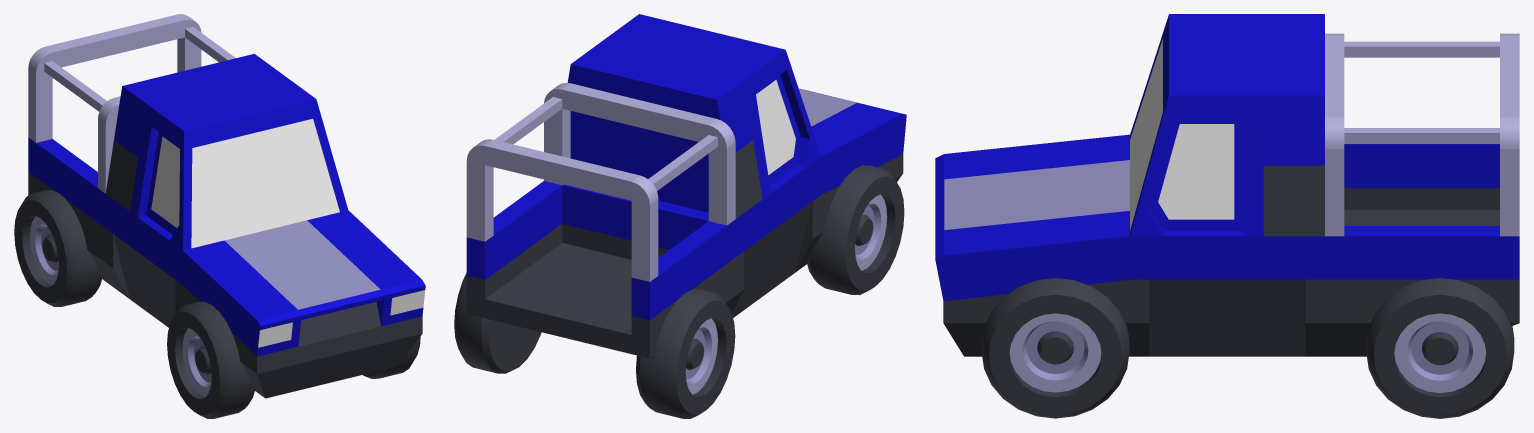
File: blue_car.fbx
3 views of the same model, side by side, from view 1: azimuth 30°, elevation 25°; view 2: azimuth 150°, elevation 25°; view 3: azimuth 270°, elevation 25° (orthographic). The views are drawn at different scales.
Visible parts, largest first — view 1: mergedBlocks; view 2: mergedBlocks; view 3: mergedBlocks.
Part boxes in pixels (x1,y1,x2,y2): mergedBlocks: (14,14,425,418); mergedBlocks: (454,14,906,418); mergedBlocks: (935,14,1519,418).
Bounding box in the file's own units: 12.16 × 14.08 × 24.3.
